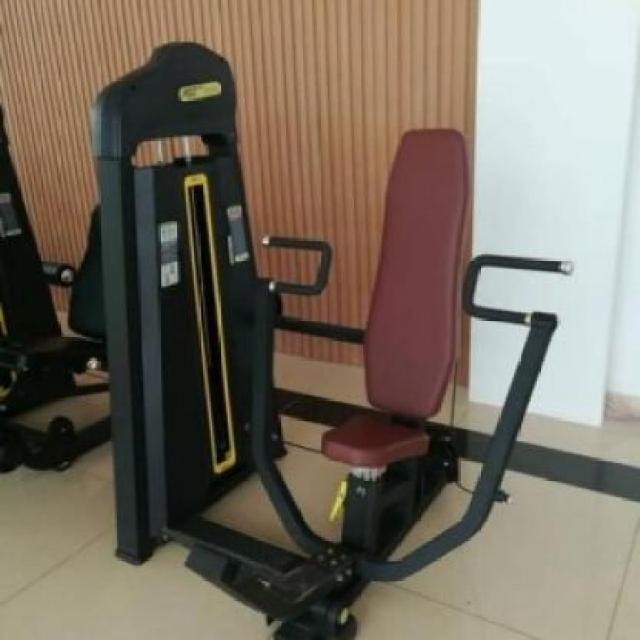Chest Press machine: (51, 23, 580, 640)
